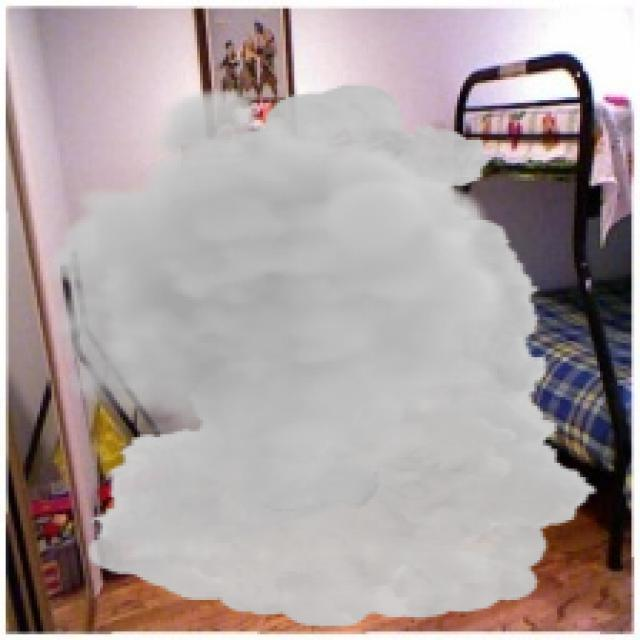Smoke: (43, 82, 600, 628)
